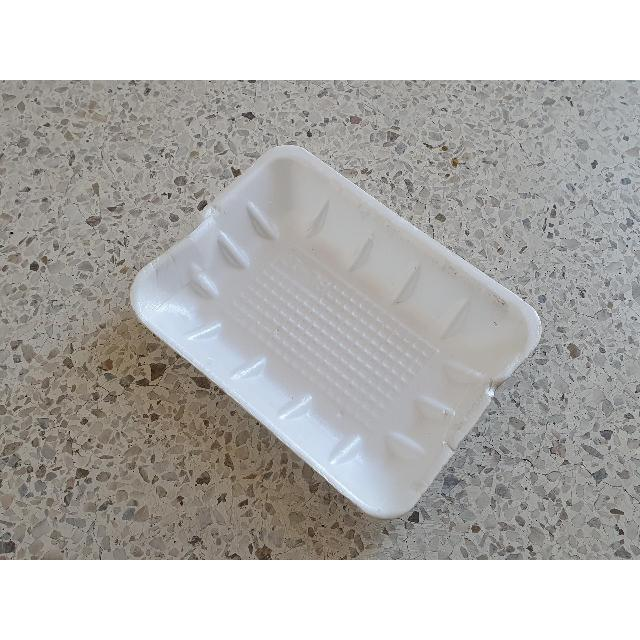Recipiente plastico: (131, 146, 540, 518)
